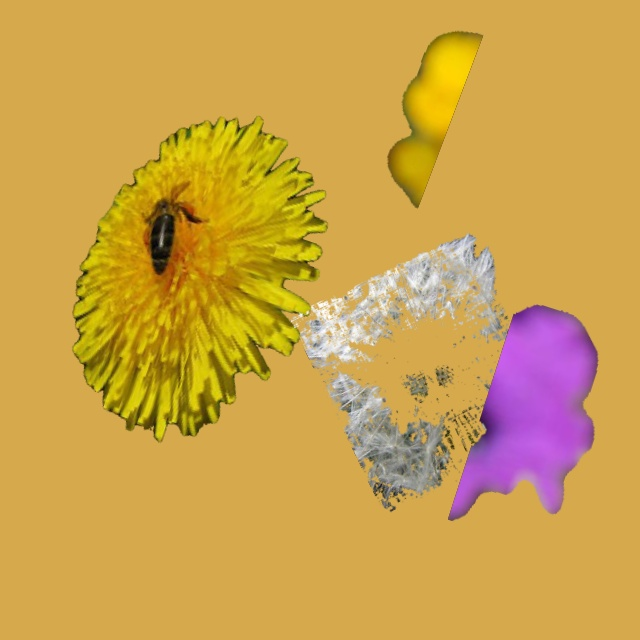dandelion: (73, 116, 327, 442), (291, 233, 541, 511)
petunia: (448, 305, 597, 520)
wallflower: (388, 31, 482, 207)
